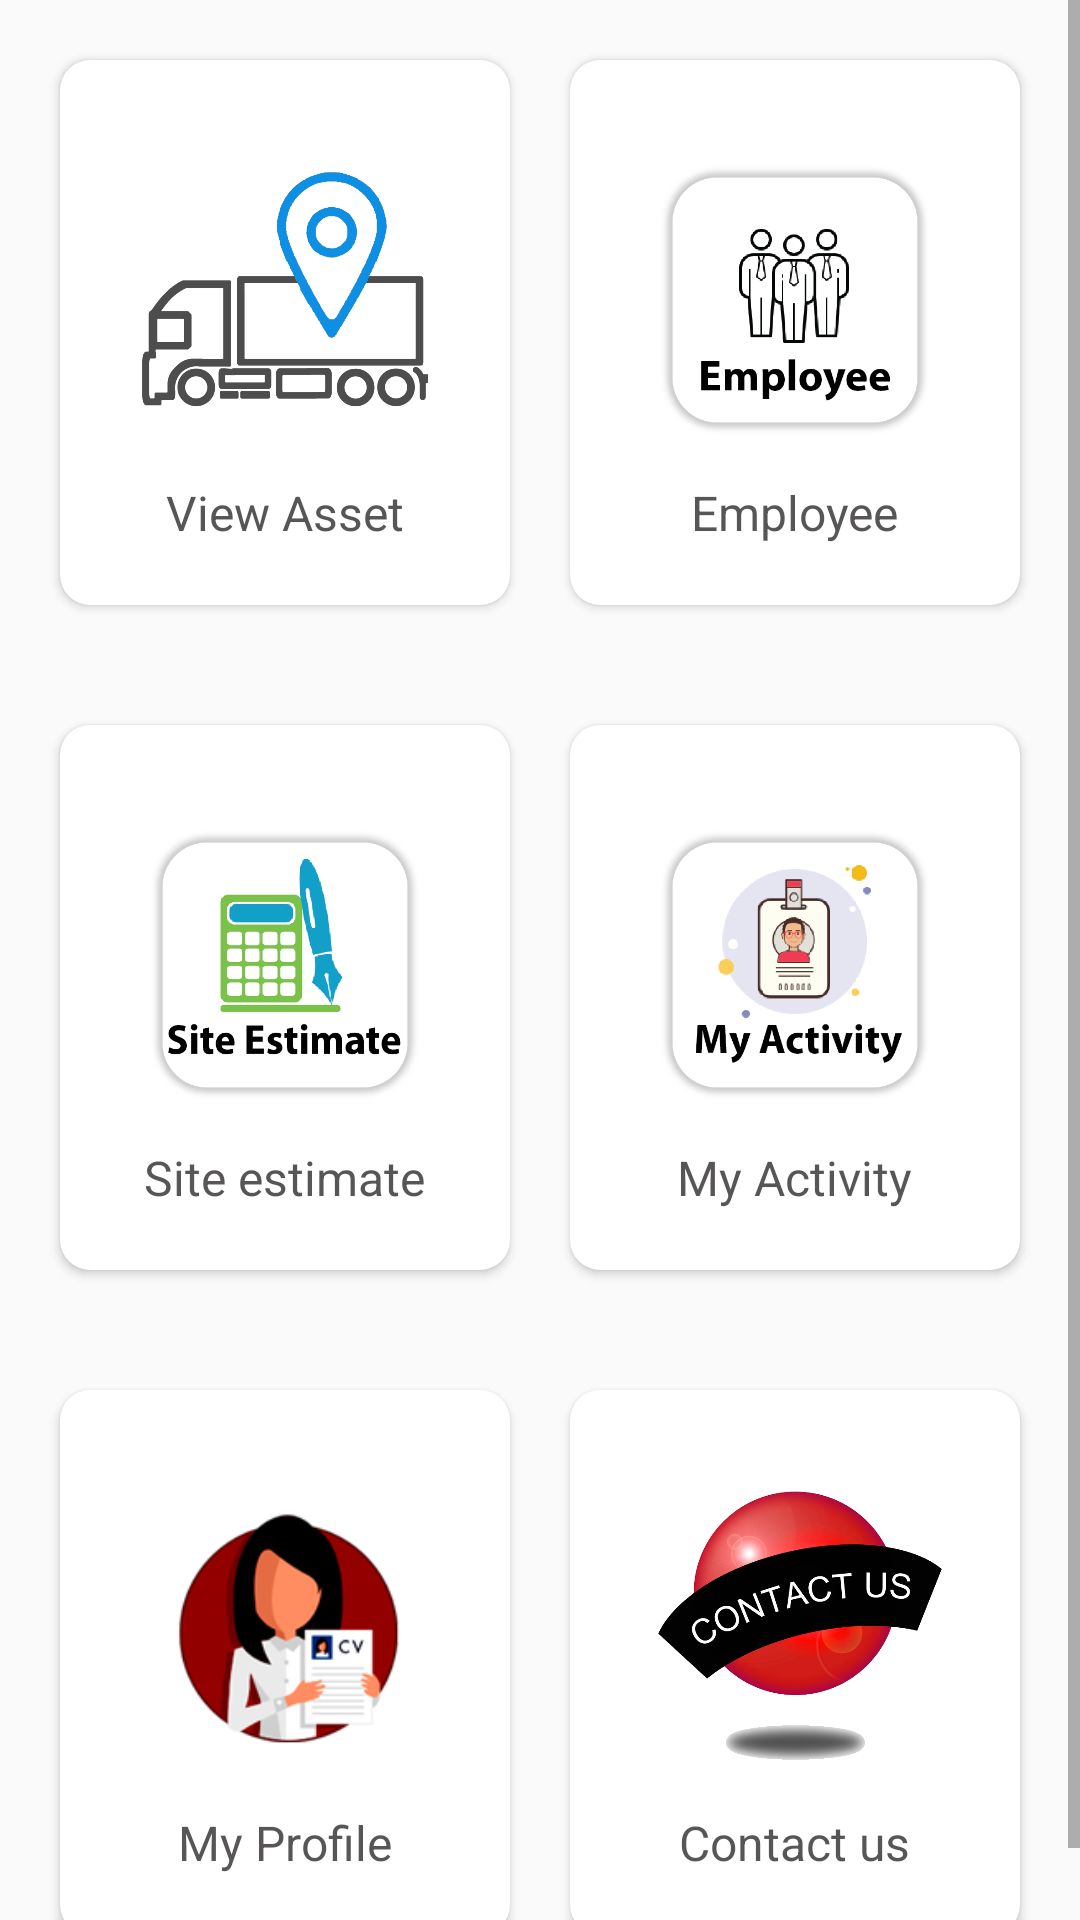

Icons on this 1080×1920 Android screen, each with the point to tap as [x,y]:
tracking: [285,289]
